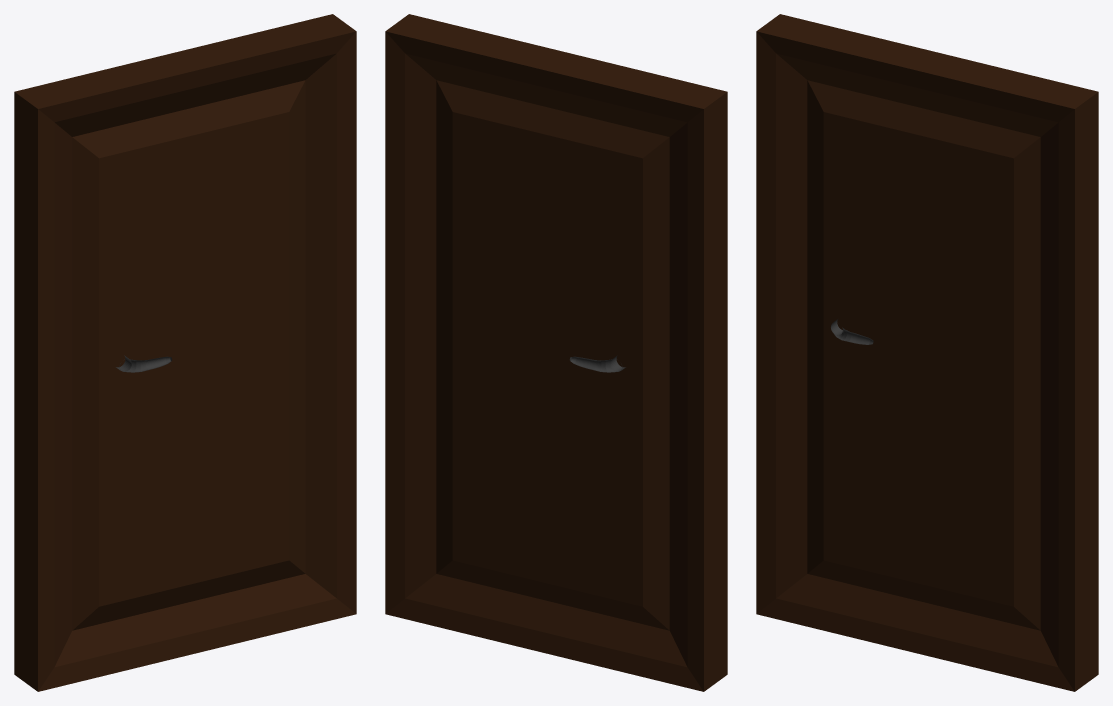
File: ovi.fbx
The picture shows the model from 3 angles, left to right: view 1: azimuth 30°, elevation 25°; view 2: azimuth 150°, elevation 25°; view 3: azimuth 330°, elevation 25°; orthographic projection.
Visible parts, largest first — view 1: ovi; view 2: ovi; view 3: ovi.
Boxes of the visible parts, left/top/right/bottom form: ovi: left=14, top=14, right=356, bottom=691; ovi: left=385, top=14, right=727, bottom=691; ovi: left=756, top=14, right=1098, bottom=691.
Size of the model in its own units: 318 by 556 by 79.86.
